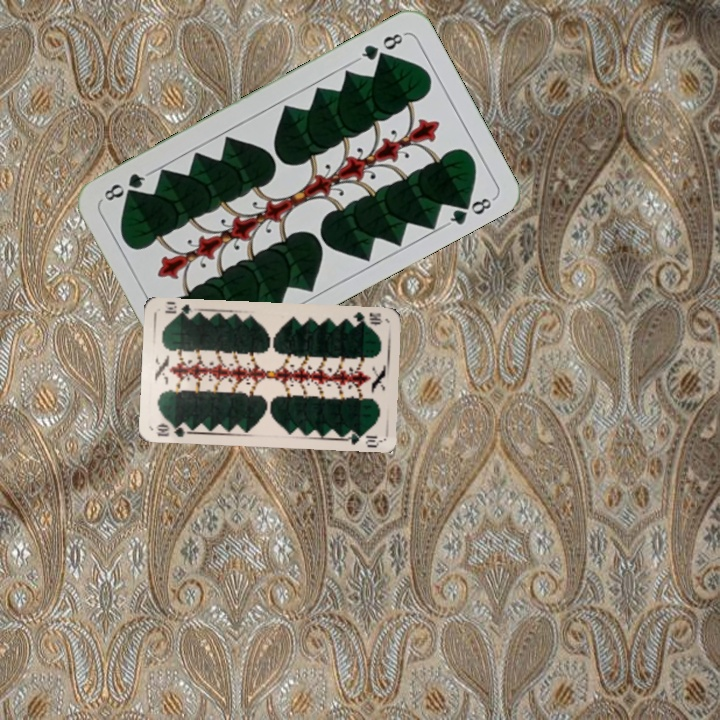G10: (152, 420, 193, 440), (349, 308, 385, 328)
G8: (354, 29, 408, 64)
